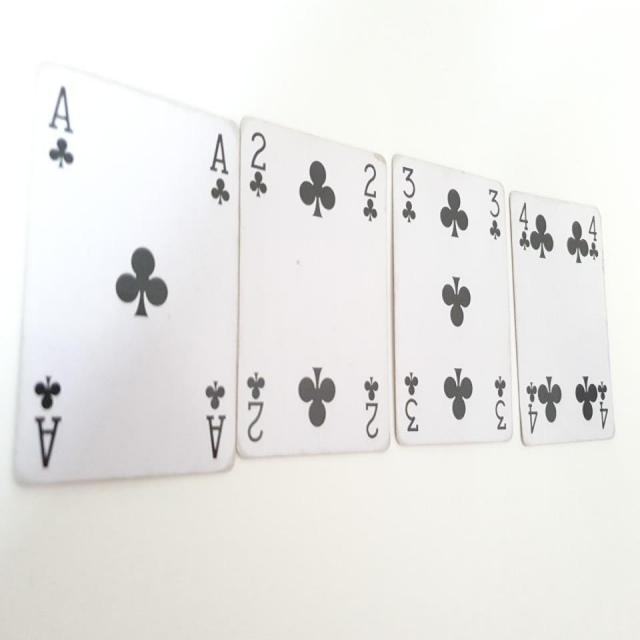2 Trefoils: (234, 111, 390, 456)
3 Trefoils: (390, 150, 515, 446)
4 Trefoils: (509, 190, 618, 444)
A Trefoils: (10, 63, 239, 480)
